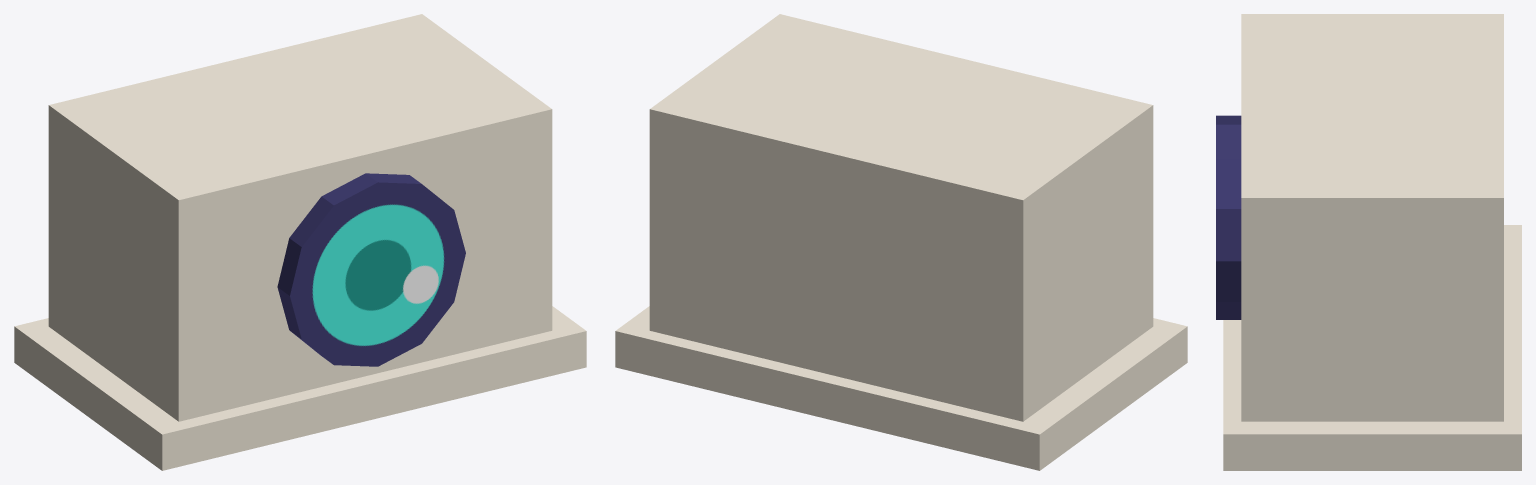
File: Camera Standard.fbx
3 views of the same model, side by side, from view 1: azimuth 30°, elevation 25°; view 2: azimuth 150°, elevation 25°; view 3: azimuth 270°, elevation 25° (orthographic).
Visible parts, largest first — view 1: Standard Cam; view 2: Standard Cam; view 3: Standard Cam.
Part boxes in pixels (x1,y1,x2,y2): Standard Cam: (14, 14, 586, 470); Standard Cam: (615, 14, 1187, 470); Standard Cam: (1216, 14, 1521, 470).
Size of the model in its own units: 3.32 by 1.93 by 2.05.
